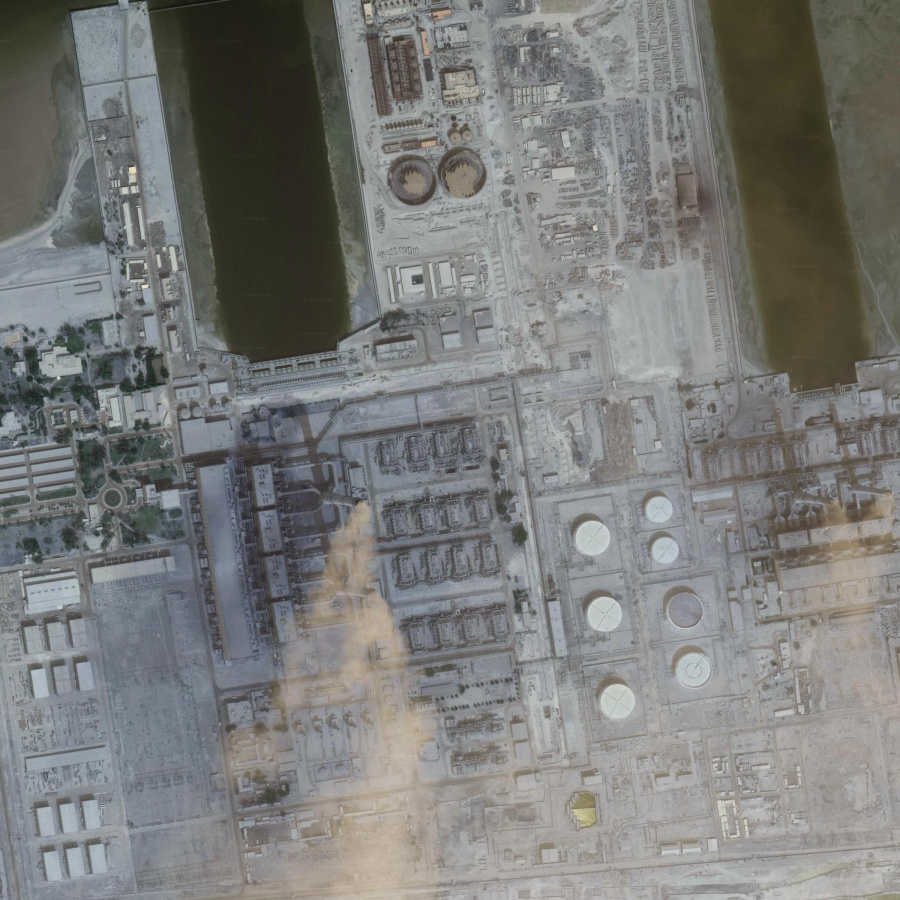PowerPlant: (198, 356, 728, 832)
